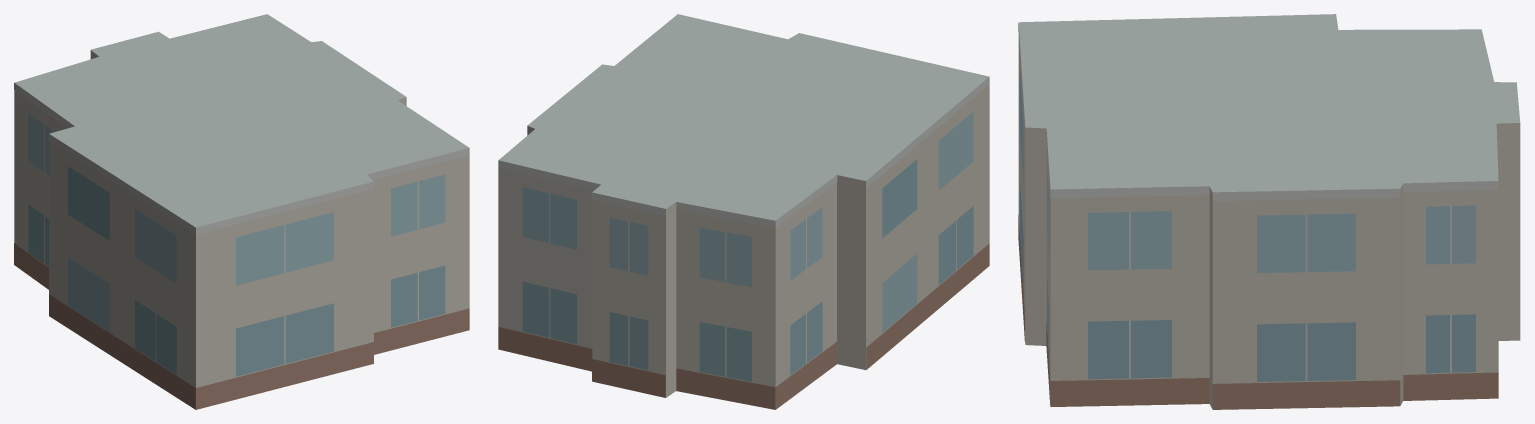
Rendered from survey-upis-32607849.glb.
3 views of the same model, side by side, from view 1: azimuth 30°, elevation 25°; view 2: azimuth 150°, elevation 25°; view 3: azimuth 270°, elevation 25° (orthographic). The views are drawn at different scales.
Parts seen in each view (by area): view 1: survey-upis-32607849.tmp; view 2: survey-upis-32607849.tmp; view 3: survey-upis-32607849.tmp.
Boxes of the visible parts, x1,y1,x2,y2 form: survey-upis-32607849.tmp: [14, 14, 469, 409]; survey-upis-32607849.tmp: [498, 14, 989, 409]; survey-upis-32607849.tmp: [1018, 14, 1520, 409].
Bounding box in the file's own units: 10.73 × 6.1 × 12.76.
